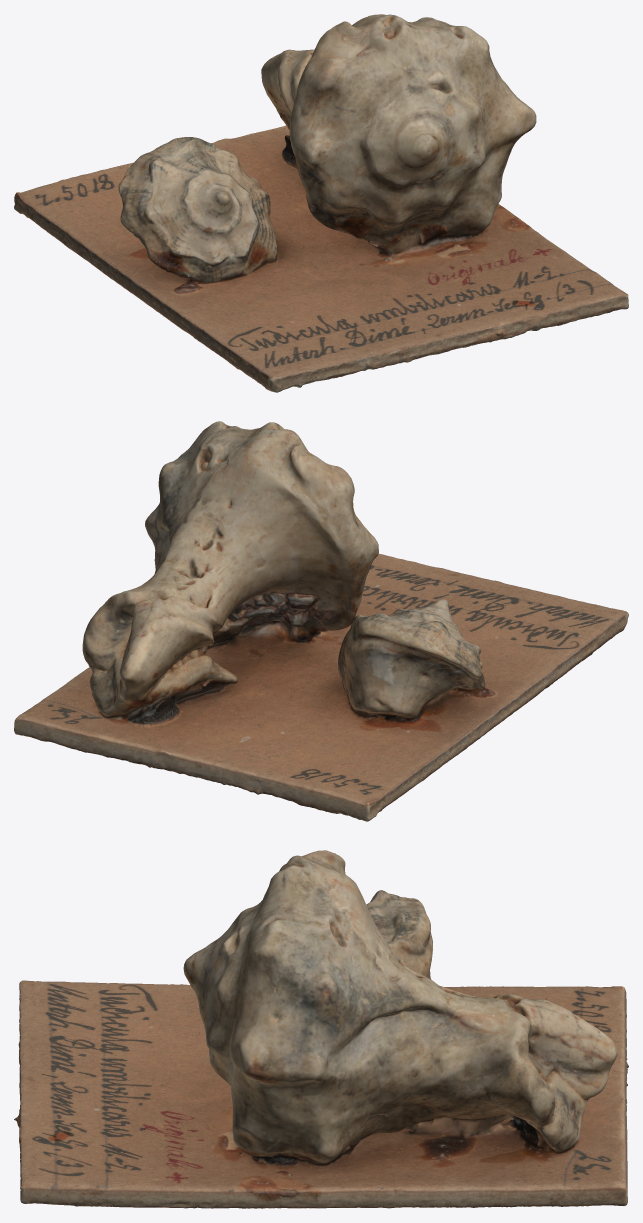
File: EWS0016472.glb
3 renders of one model, top to bottom at view 1: azimuth 30°, elevation 25°; view 2: azimuth 150°, elevation 25°; view 3: azimuth 270°, elevation 25°, orthographic. The views are drawn at different scales.
Parts seen in each view (by area): view 1: input; view 2: input; view 3: input.
Boxes of the visible parts, box(x1,y1,x2,y2) form: input: box(14, 14, 628, 392); input: box(14, 421, 628, 821); input: box(14, 850, 628, 1208).
Bounding box in the file's own units: 0.0531 × 0.0333 × 0.0666.
Materials: 1 (1 with a texture image).
